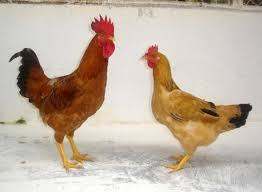Gà/Chicken: (2, 5, 129, 182), (132, 37, 256, 176)
